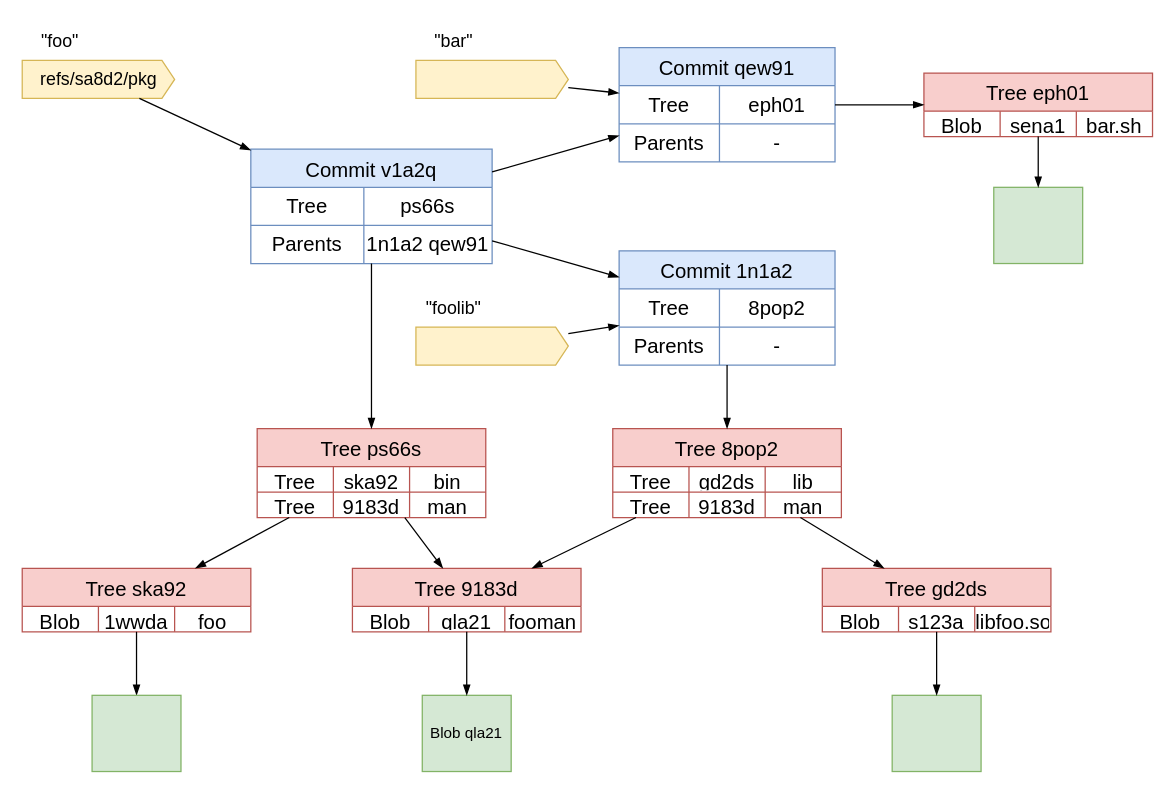
The diagram is 1175 pixels wide and 794 high, and some of its shapes have lost their labels. Here are the shapes that lost their labels. From the top down, the centre of each, then its label:
At (491,78): "refs/dg7c6/pkg".
At (1038,225): "Blob sena1".
At (491,345): "refs/ba1l3/pkg".
At (136,733): "Blob 1wwda".
At (936,733): "Blob s123a".
